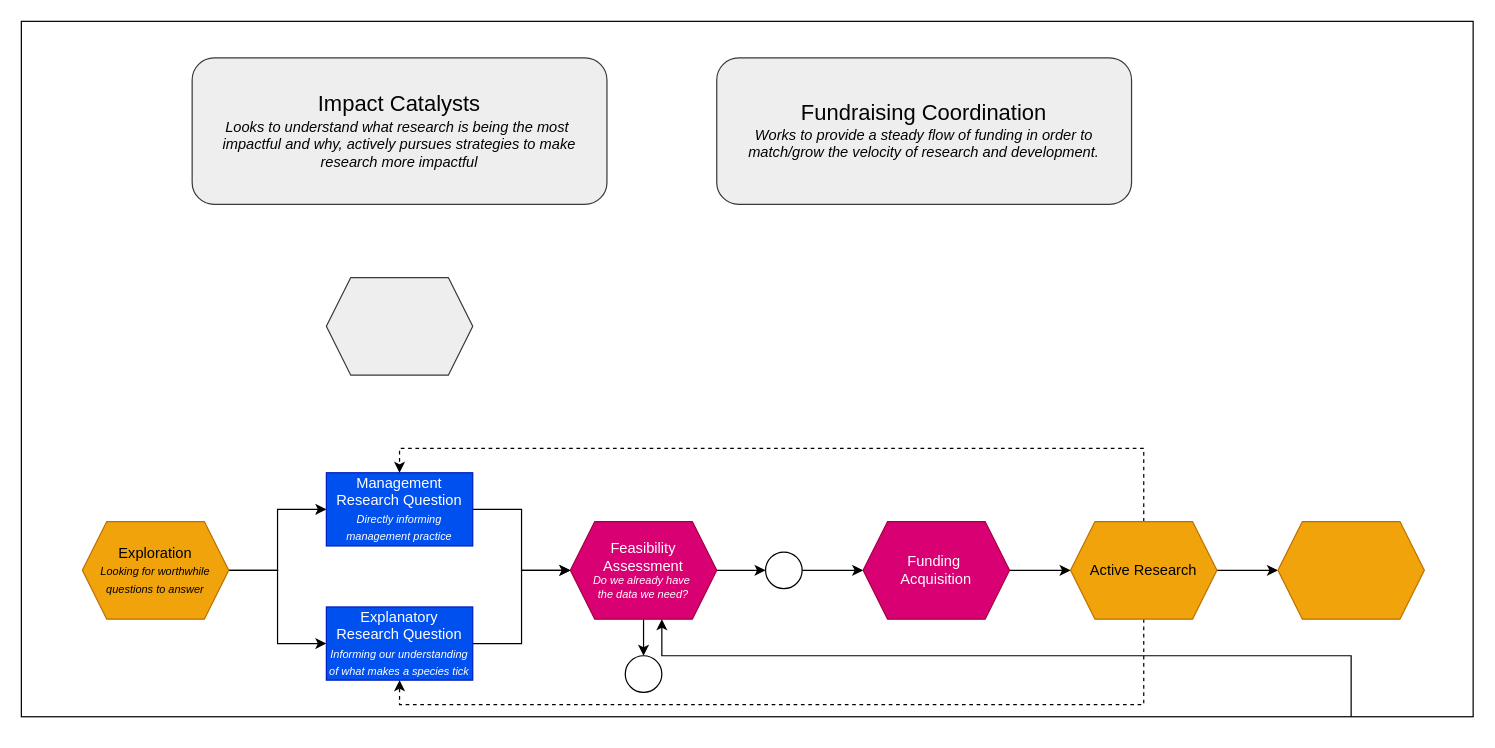
Image size: 1495x748. Some labels were removed from this diagram. The shapes that lost their labels are listed below. From the top down, each one's box as (x1, y1, x2, y2) in pixels, then its label:
(325, 276, 473, 375): Bounty Prioritization
(764, 551, 802, 589): Yes
(1277, 520, 1424, 619): Publication
(624, 655, 662, 692): No
